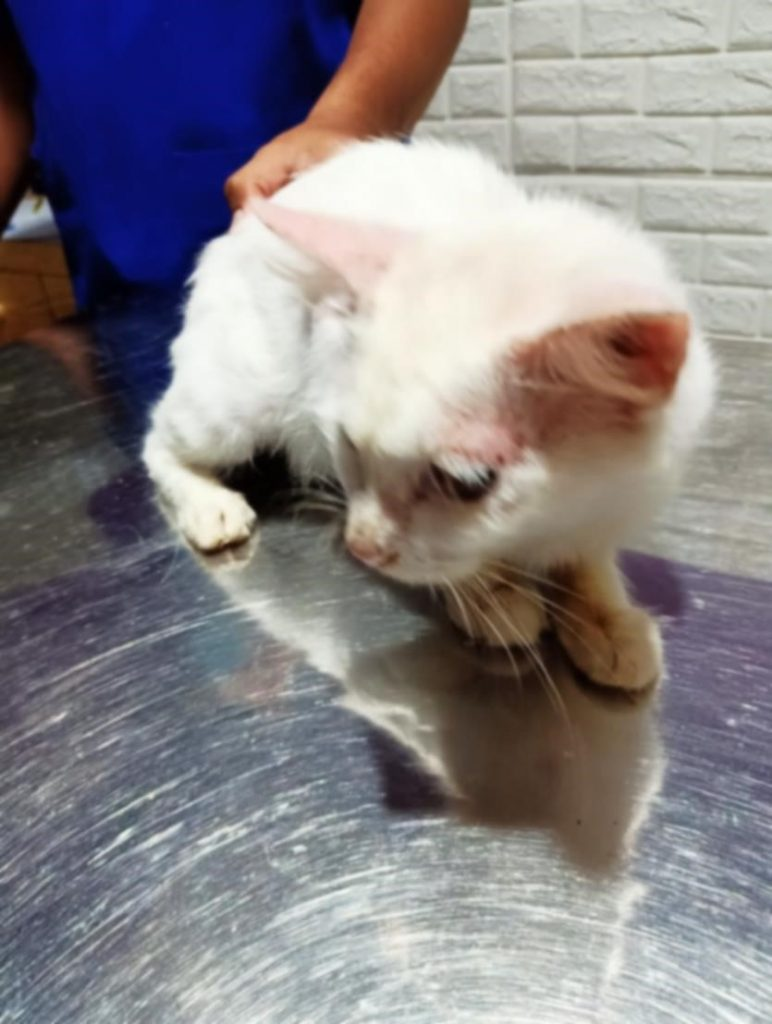ringworm: (459, 399, 568, 471)
